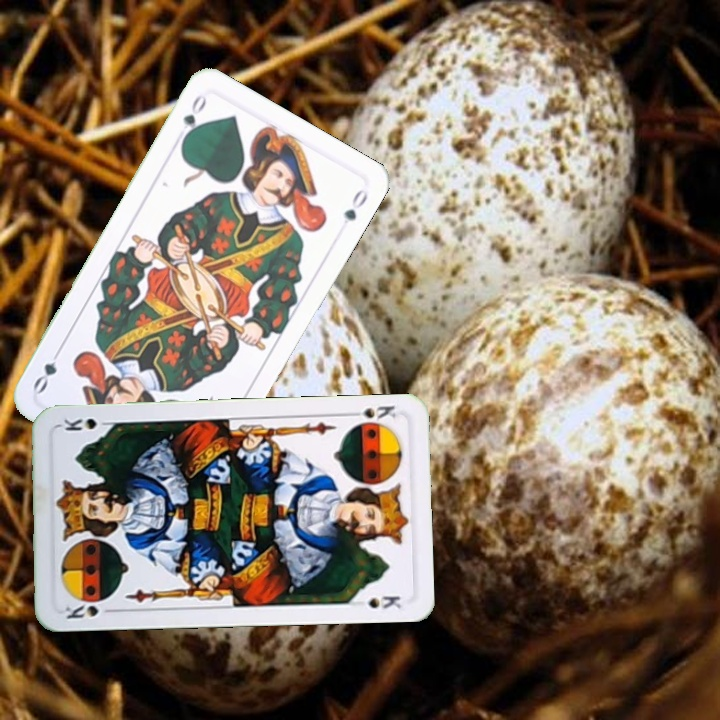GO: (177, 90, 210, 146)
SK: (344, 401, 399, 429), (59, 595, 118, 621)
